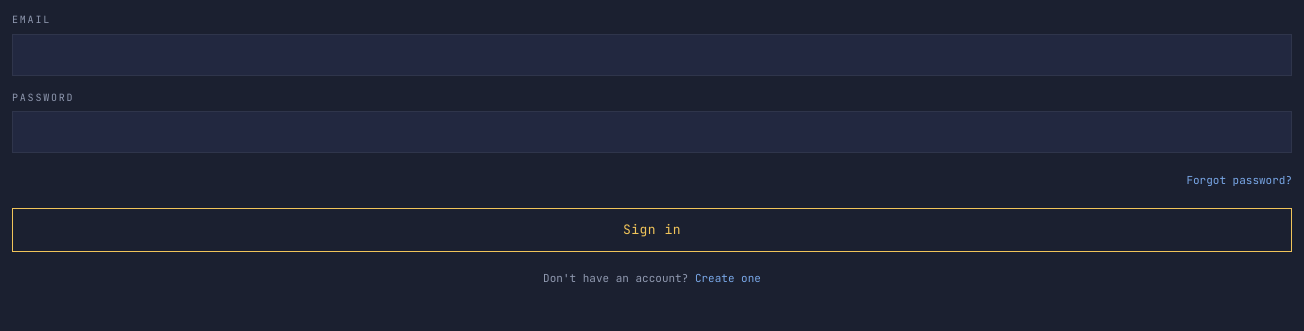
Scenario: SignInForm › shows a generic error on bad credentials
The image size is (1304, 331).
Step 1. Type "a@b.c" into the field labelled "Email" → (652,55), box [12,34,1292,76]
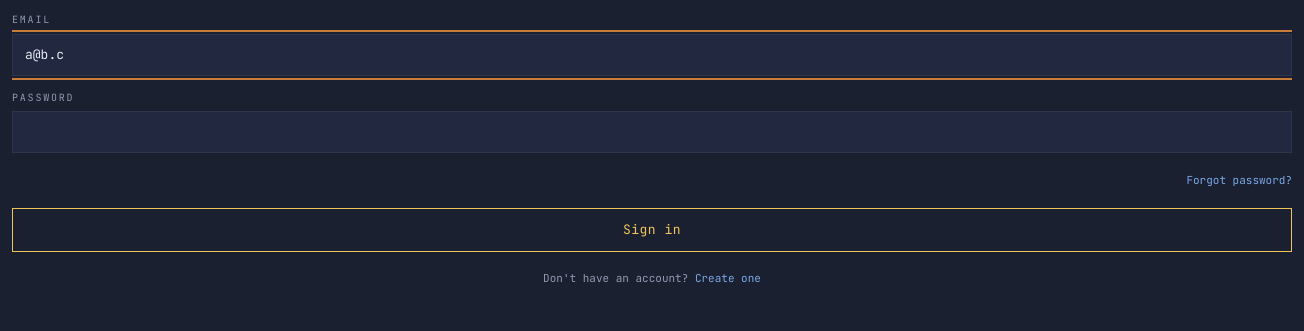
Step 2. Type "wrong" into the password field labelled "Password" → (652,132), box [12,111,1292,153]
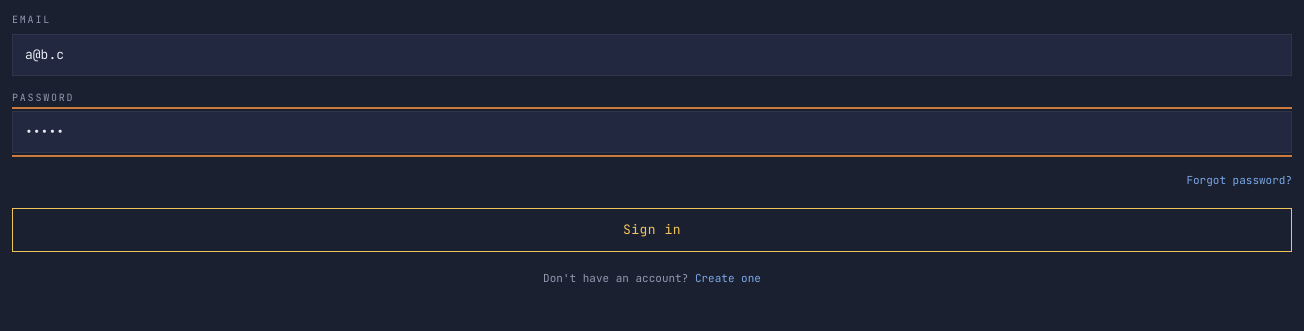
Step 3. Click the button "Sign in" → (652,230), box [12,208,1292,252]
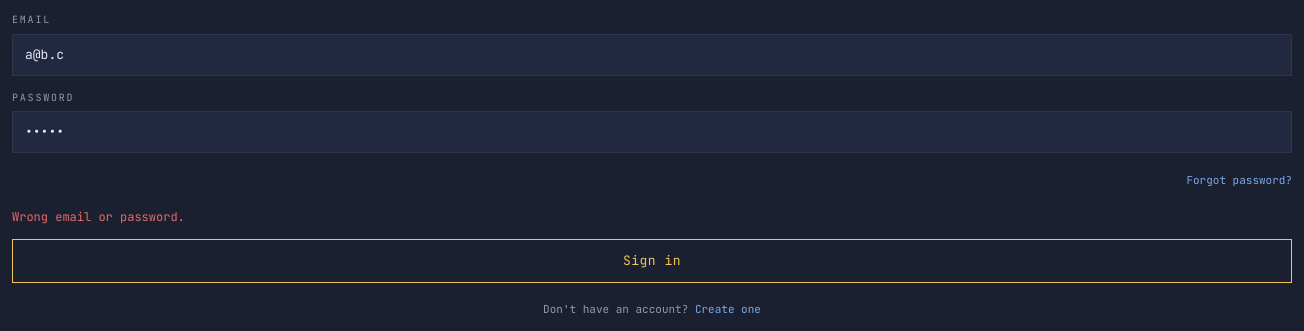
Result: the message shows "Wrong email or password" at [12,209,185,225]
